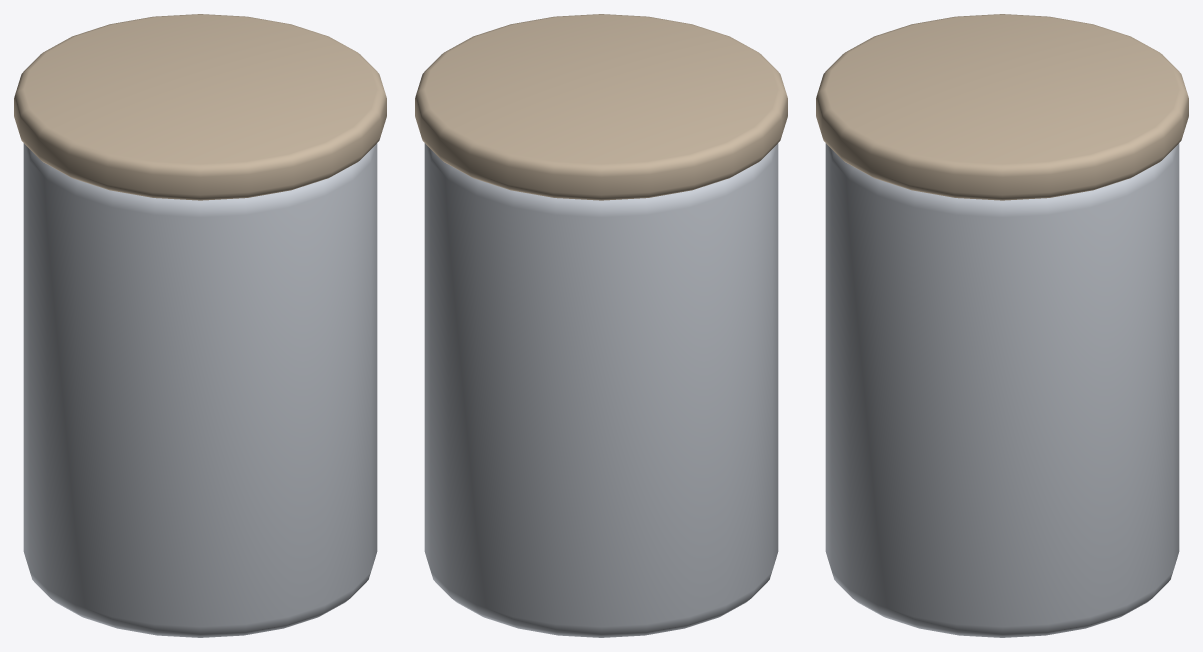
The model's file is trashcan.glb.
3 renders of one model, left to right at view 1: azimuth 30°, elevation 25°; view 2: azimuth 150°, elevation 25°; view 3: azimuth 270°, elevation 25°, orthographic.
Visible parts, largest first — view 1: trashcan; view 2: trashcan; view 3: trashcan.
Boxes of the visible parts, bbox=[...] form: trashcan: bbox=[14, 14, 386, 637]; trashcan: bbox=[415, 14, 787, 637]; trashcan: bbox=[816, 14, 1188, 637].
Bounding box in the file's own units: 0.38 × 0.54 × 0.38.
